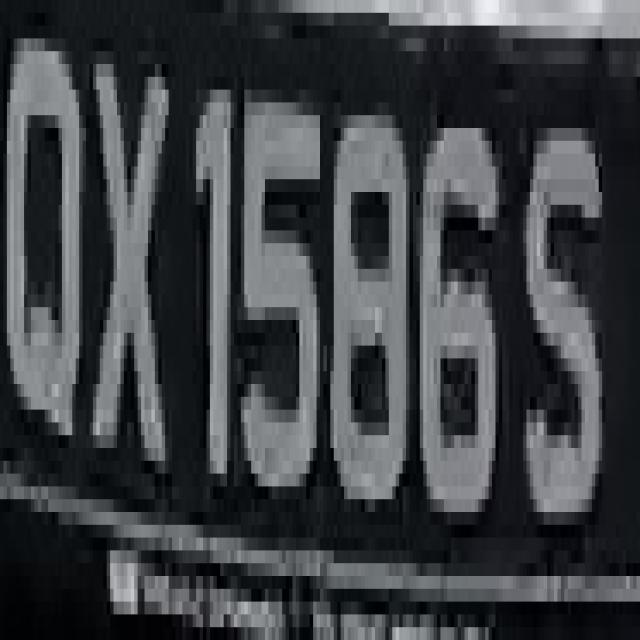1: (196, 26, 238, 524)
5: (234, 51, 320, 525)
6: (413, 77, 502, 550)
8: (320, 77, 413, 563)
Q: (3, 51, 86, 474)
S: (516, 102, 616, 576)
X: (83, 13, 179, 512)
